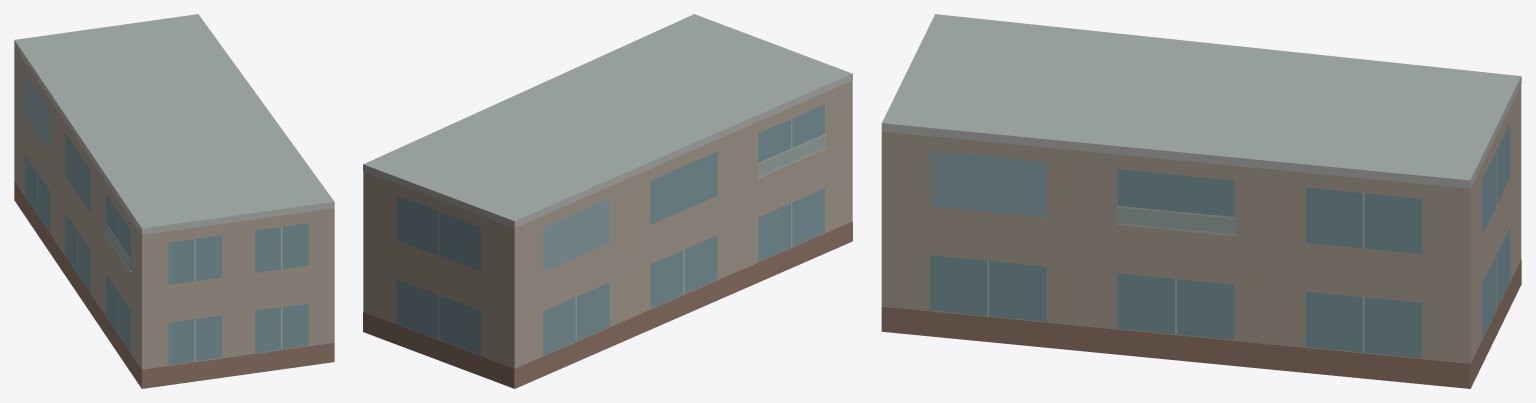
File: survey-upis-32810818.glb
3 renders of one model, left to right at view 1: azimuth 30°, elevation 25°; view 2: azimuth 150°, elevation 25°; view 3: azimuth 270°, elevation 25°, orthographic. The views are drawn at different scales.
Parts seen in each view (by area): view 1: survey-upis-32810818.tmp; view 2: survey-upis-32810818.tmp; view 3: survey-upis-32810818.tmp.
Boxes of the visible parts, <box> form: survey-upis-32810818.tmp: <box>14,14,334,388</box>; survey-upis-32810818.tmp: <box>363,14,852,388</box>; survey-upis-32810818.tmp: <box>881,14,1521,388</box>.
Bounding box in the file's own units: 10.46 × 6.1 × 16.98.
